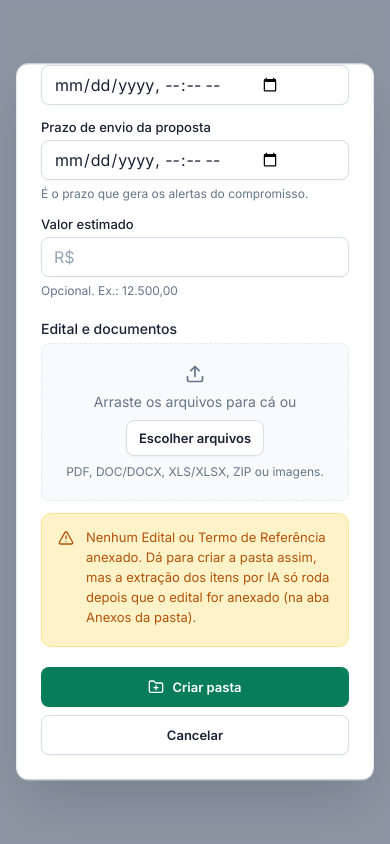
Test: NovaPastaManualDialog › diz o que falta, leva o foco ao primeiro erro e não cria nada
(page scrolled)
Click the button "Criar pasta" at (195, 687), box left=41, top=667, right=349, bottom=707
(page scrolled)
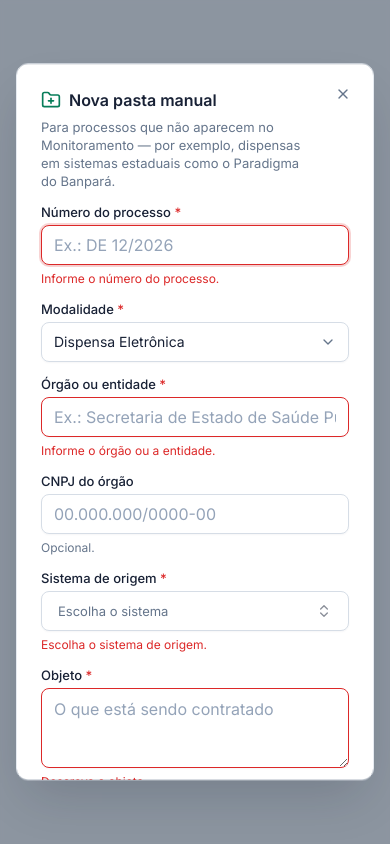
Expected: the text "Informe o número do processo." is shown, left=41, top=271, right=219, bottom=286
Expected: the text "Informe o órgão ou a entidade." is shown, left=41, top=443, right=216, bottom=458
Expected: the text "Escolha o sistema de origem." is shown, left=41, top=637, right=207, bottom=652
